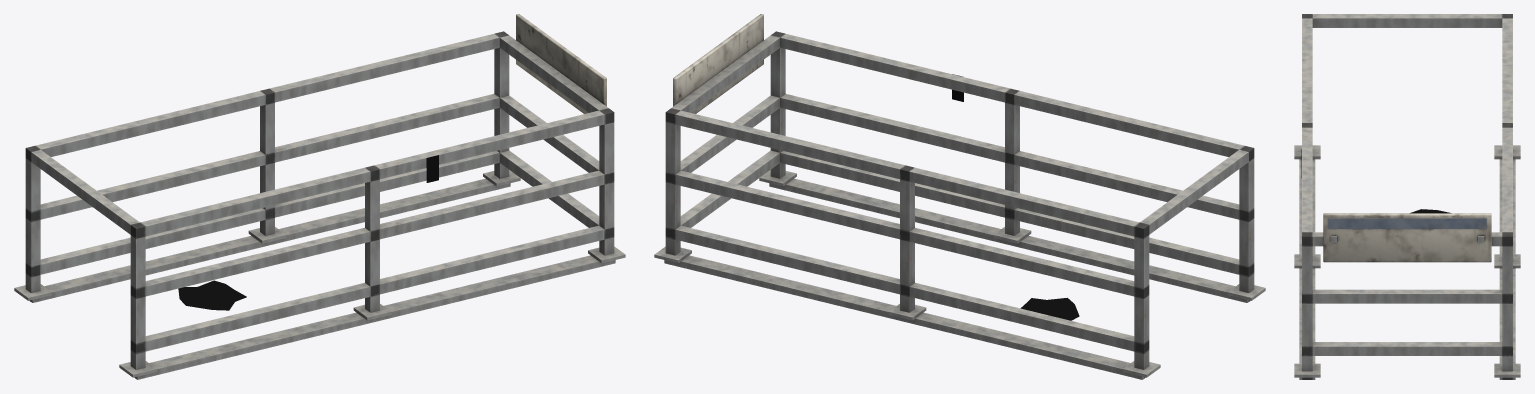
The model's file is cart_corral.fbx.
The picture shows the model from 3 angles, left to right: view 1: azimuth 30°, elevation 25°; view 2: azimuth 150°, elevation 25°; view 3: azimuth 270°, elevation 25°; orthographic projection. The views are drawn at different scales.
Parts seen in each view (by area): view 1: Body; view 2: Body; view 3: Body.
Boxes of the visible parts, <box> form: Body: <box>14,14,625,379</box>; Body: <box>654,14,1265,379</box>; Body: <box>1294,14,1520,379</box>.
Size of the model in its own units: 10.3 by 3.5 by 4.3.
Materials: 1 (1 with a texture image).
